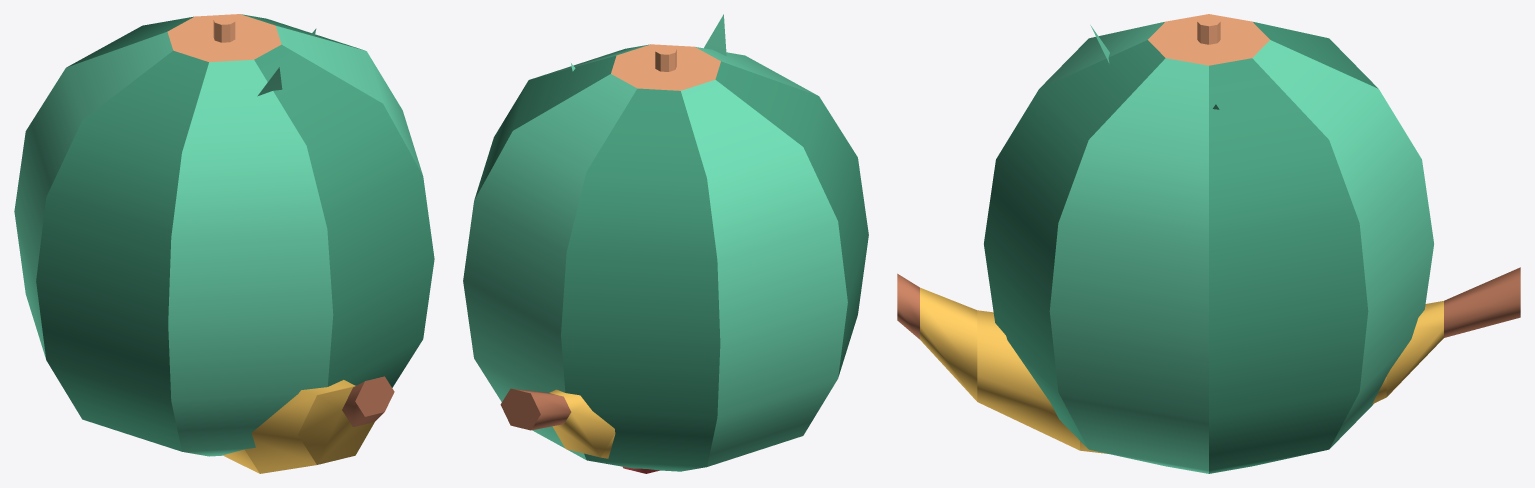
File: frutas.glb
The picture shows the model from 3 angles, left to right: view 1: azimuth 30°, elevation 25°; view 2: azimuth 150°, elevation 25°; view 3: azimuth 270°, elevation 25°; orthographic projection. The views are drawn at different scales.
Visible parts, largest first — view 1: slice (×7), Banana; view 2: slice (×7), Banana, Pineapple; view 3: slice (×6), Banana.
Part boxes in pixels (bbox=[...]): slice (×7): bbox=[14, 14, 434, 456]; Banana: bbox=[223, 376, 394, 473]; slice (×7): bbox=[463, 44, 868, 471]; Banana: bbox=[500, 388, 615, 458]; Pineapple: bbox=[571, 14, 726, 71]; slice (×6): bbox=[984, 18, 1433, 473]; Banana: bbox=[897, 267, 1520, 453].
Size of the model in its own units: 0.4554 by 0.4761 by 0.6299.
